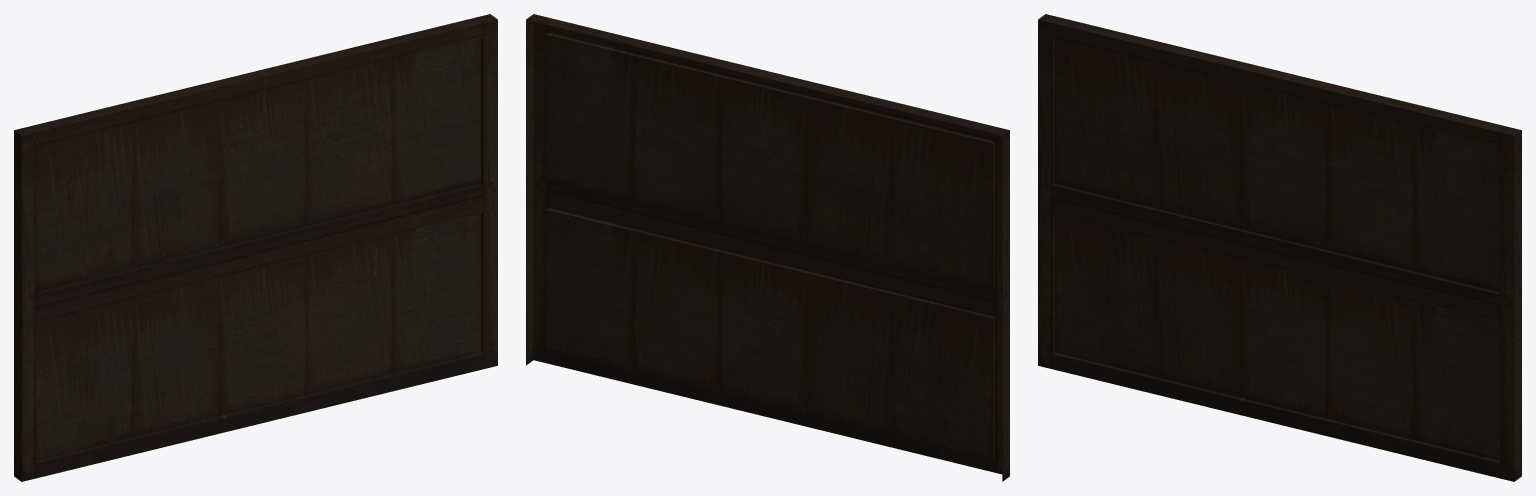
File: metal_fence_hr_1.dae
The picture shows the model from 3 angles, left to right: view 1: azimuth 30°, elevation 25°; view 2: azimuth 150°, elevation 25°; view 3: azimuth 330°, elevation 25°; orthographic projection.
Parts seen in each view (by area): view 1: metal_fence_hr_1; view 2: metal_fence_hr_1; view 3: metal_fence_hr_1.
Part boxes in pixels (x1,y1,x2,y2): metal_fence_hr_1: (14, 14, 497, 481); metal_fence_hr_1: (526, 14, 1009, 481); metal_fence_hr_1: (1038, 14, 1521, 481).
Size of the model in its own units: 3.6 by 0.1 by 2.5.
Materials: 1 (1 with a texture image).
